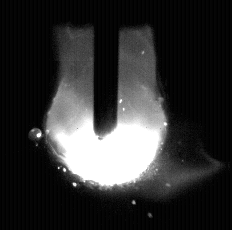arame: (94, 0, 119, 139)
poca: (45, 0, 169, 230)
